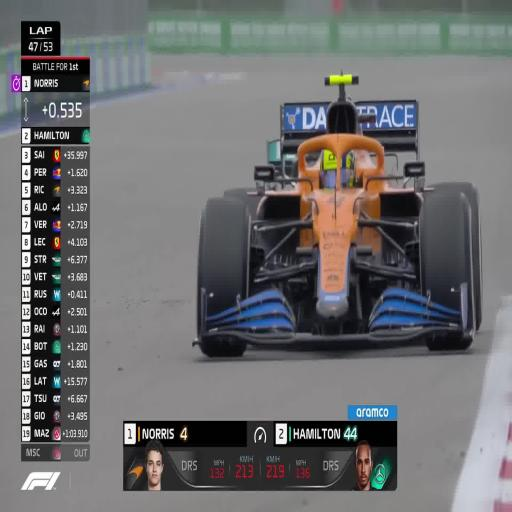f1_car: (195, 74, 482, 355)
